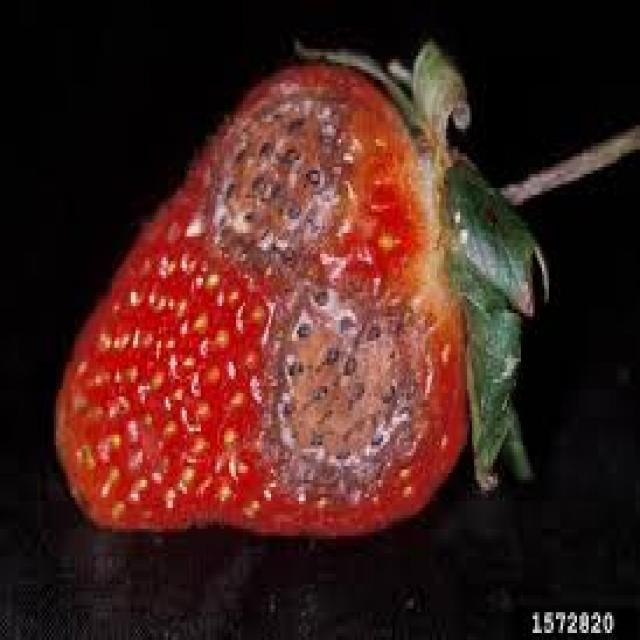Mancha negra Antracnosis: (35, 42, 482, 541)
